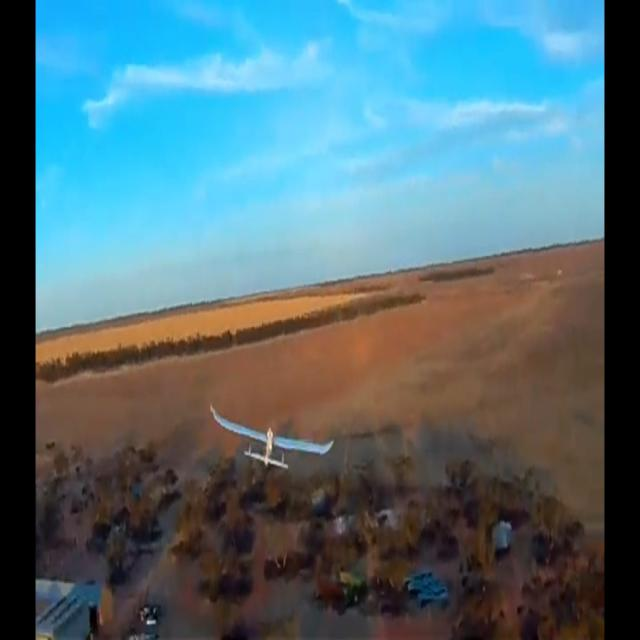iha: (240, 435, 303, 438)
